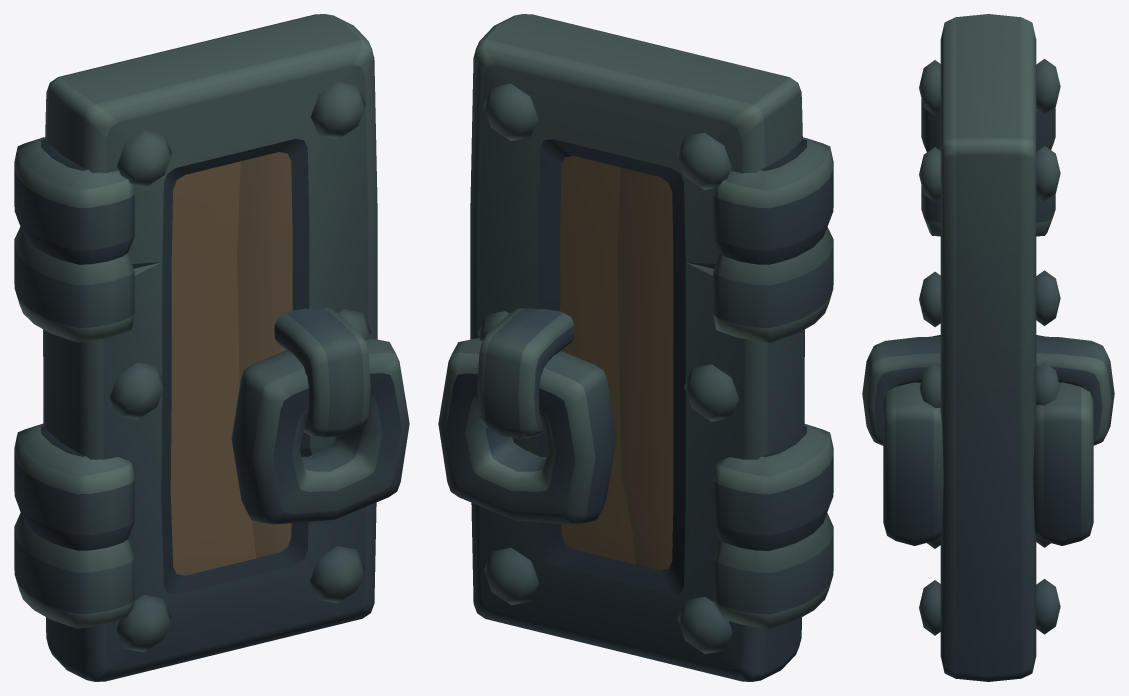
File: door_wood_left.fbx
3 views of the same model, side by side, from view 1: azimuth 30°, elevation 25°; view 2: azimuth 150°, elevation 25°; view 3: azimuth 270°, elevation 25° (orthographic). The views are drawn at different scales.
Visible parts, largest first — view 1: door_wood_left, door_hinges, door_handles; view 2: door_wood_left, door_hinges, door_handles; view 3: door_wood_left, door_handles, door_hinges.
Part boxes in pixels (left/top/right/bottom): door_wood_left: left=43, top=14, right=377, bottom=681; door_hinges: left=14, top=137, right=134, bottom=628; door_handles: left=231, top=308, right=409, bottom=524; door_wood_left: left=470, top=14, right=804, bottom=681; door_hinges: left=713, top=137, right=833, bottom=628; door_handles: left=438, top=308, right=616, bottom=524; door_wood_left: left=919, top=14, right=1060, bottom=681; door_handles: left=862, top=336, right=1114, bottom=545; door_hinges: left=921, top=99, right=1055, bottom=336.
Bounding box in the file's own units: 122 × 203 × 85.54.
